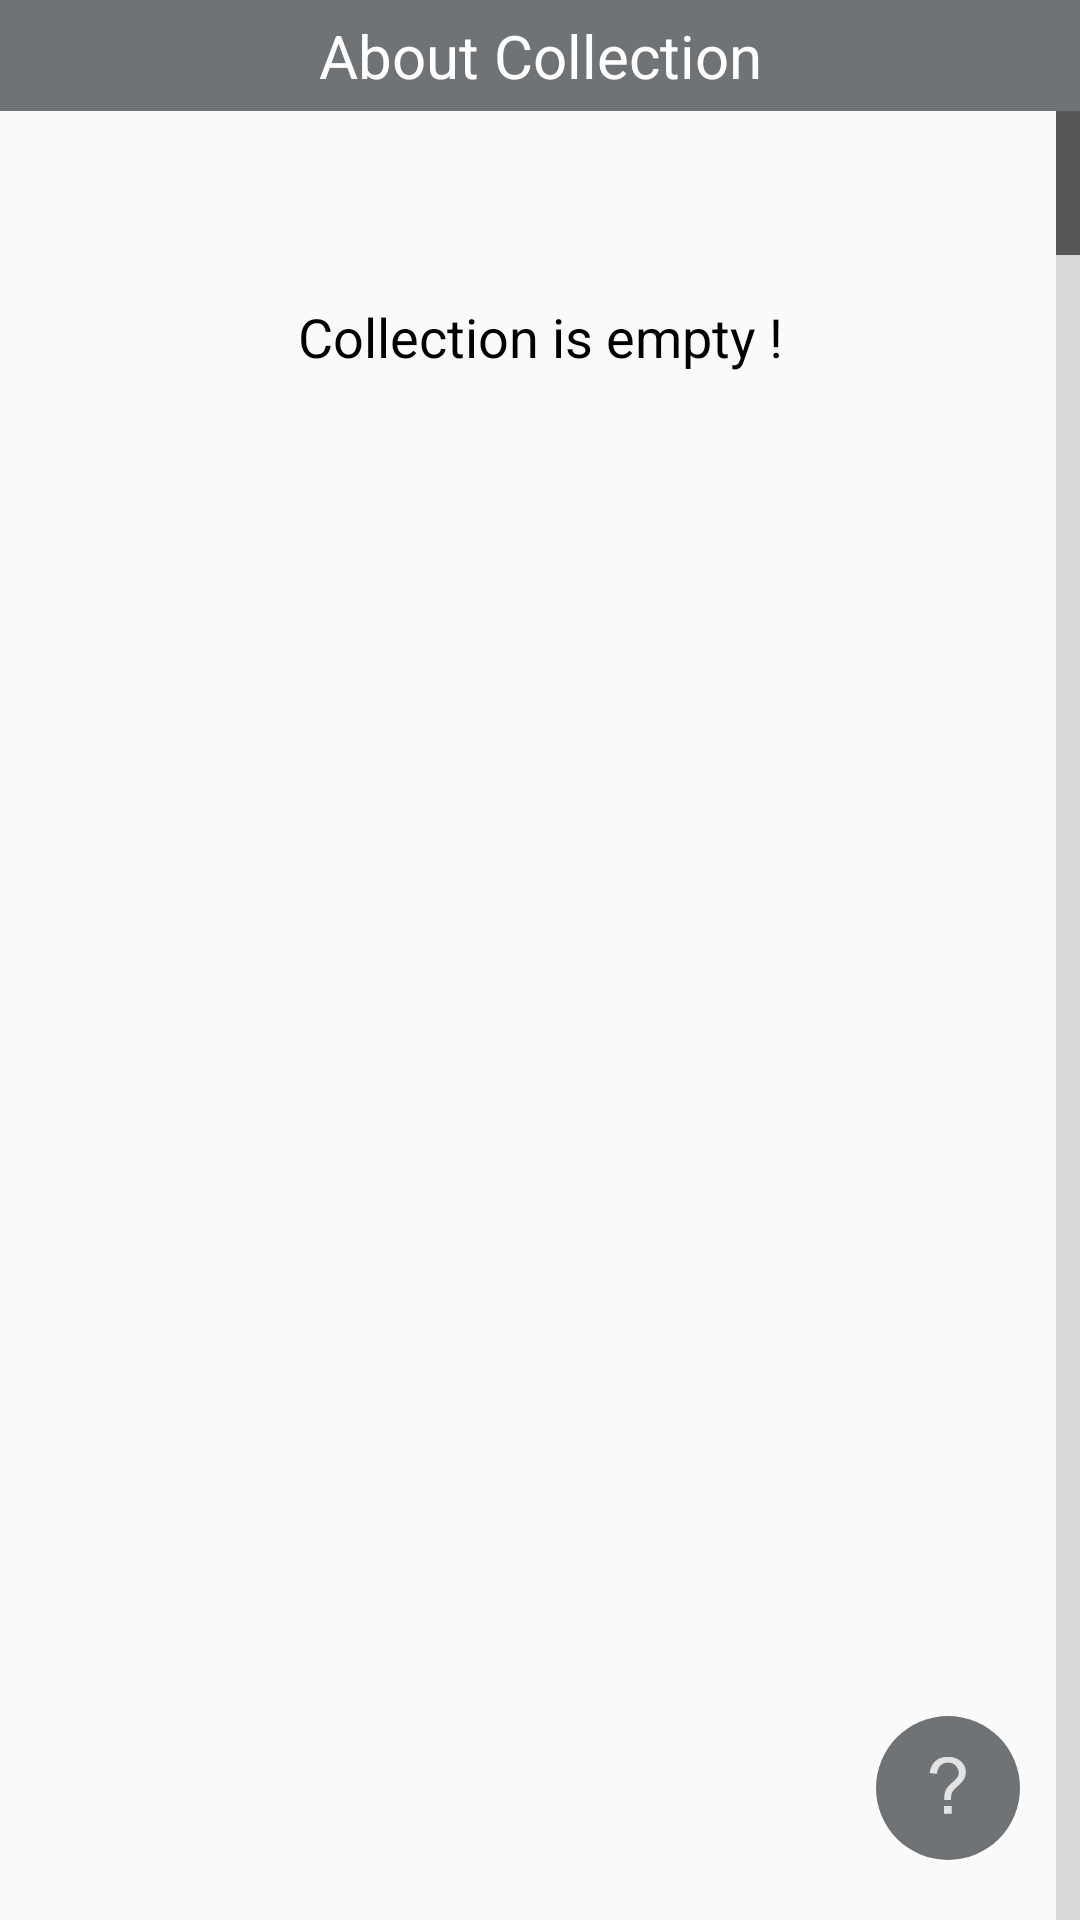

Screen size 1080*1920. Icon name, then its center in pixels as (x=x, y=y):
Help: (x=948, y=1788)
